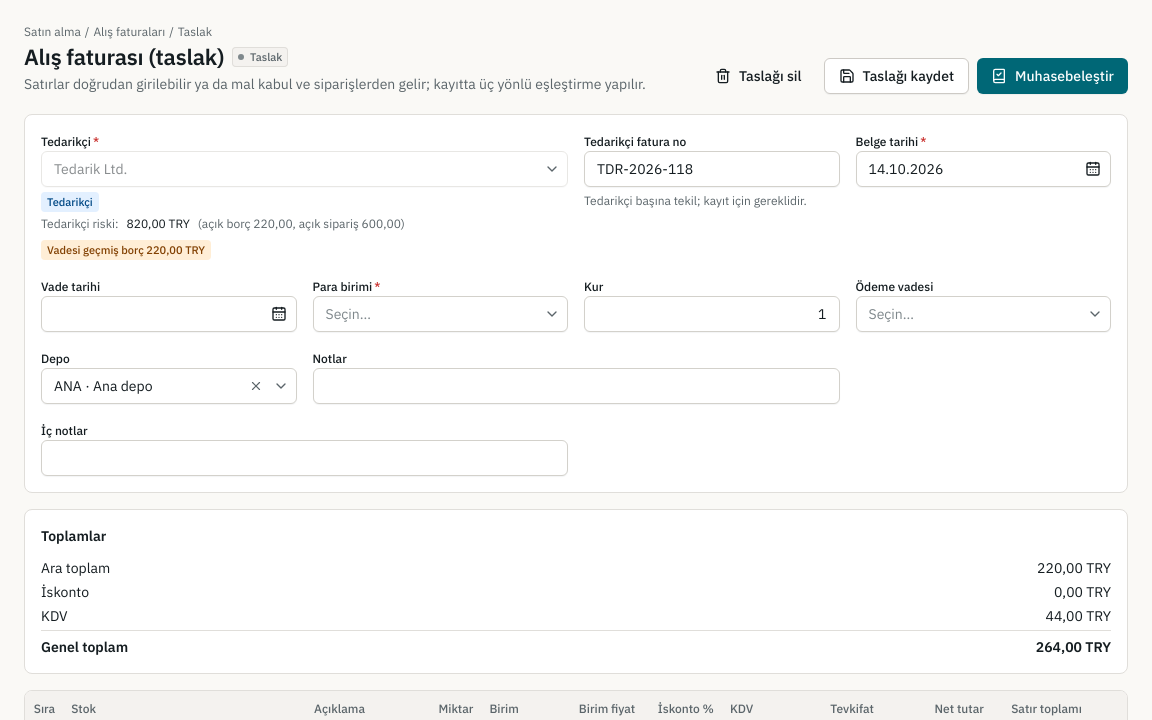
Test: book dialog refusal lifecycle › drops a refused match breakdown when the dialog is opened again
Expected: the heading "Alış faturası (taslak)" is shown, x1=24 y1=42 x2=224 y2=72
Click the button "Muhasebeleştir". click: (1052, 76)
box: x1=977 y1=58 x2=1128 y2=94
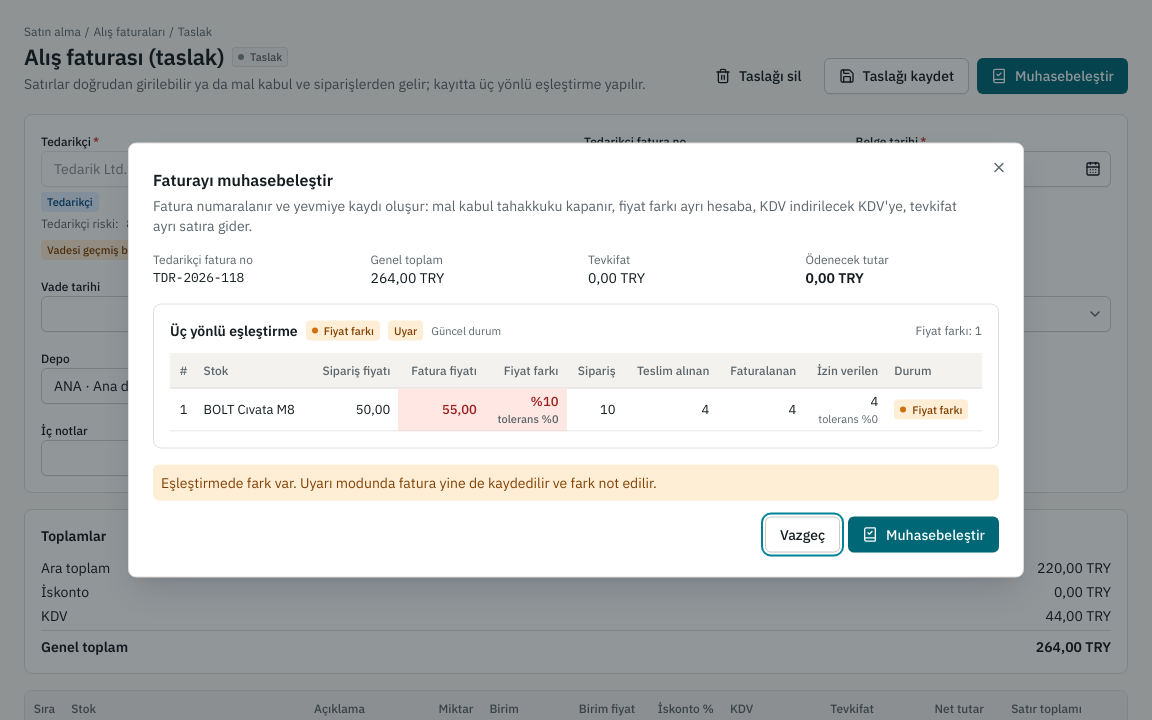
Now the text "Uyarı modunda" is shown, box x1=161 y1=474 x2=657 y2=492
Click the button "Muhasebeleştir". click: (924, 534)
box: x1=848 y1=516 x2=999 y2=552
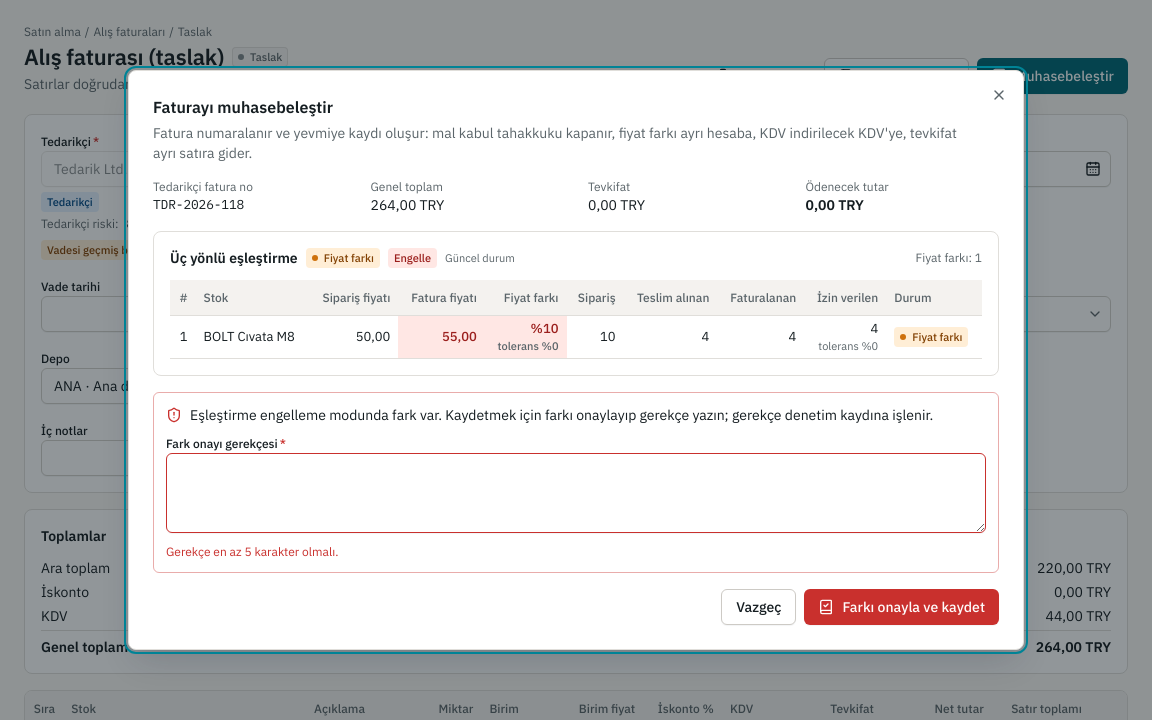
Now the text box labelled "Fark onayı gerekçesi*" is shown, box x1=166 y1=453 x2=986 y2=533
Click the button "Vazgeç". click: (759, 607)
box: x1=721 y1=589 x2=796 y2=625
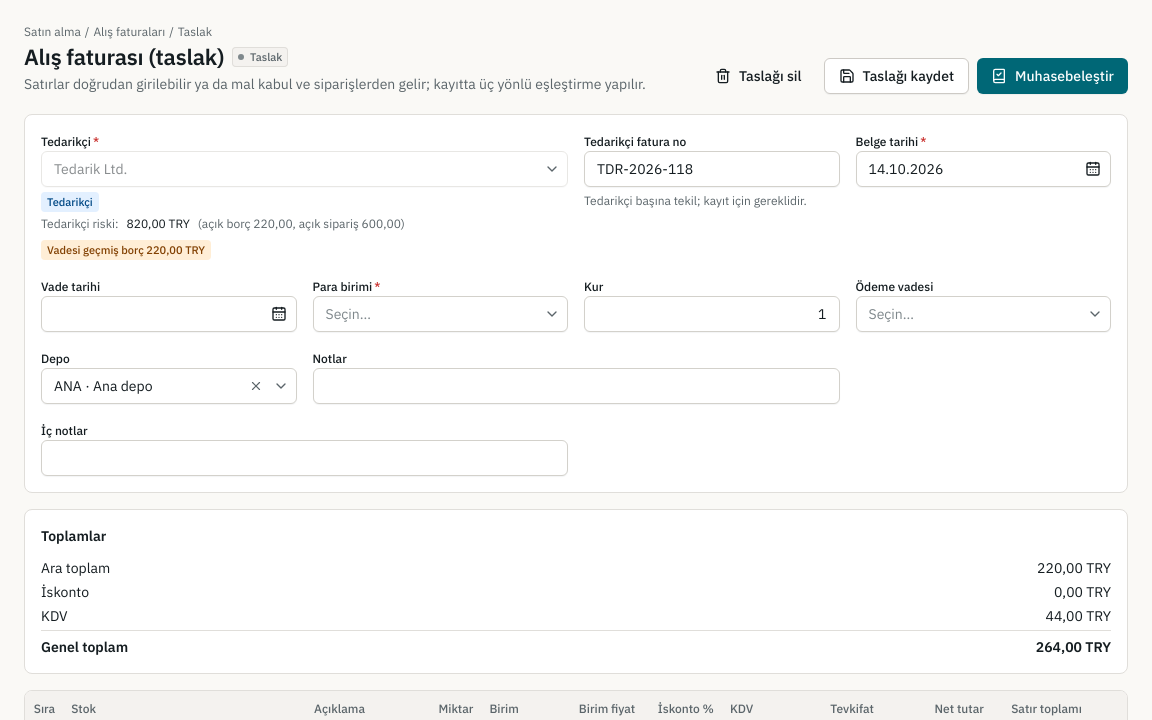
Now the dialog is gone
Click the button "Muhasebeleştir". click: (1052, 76)
box: x1=977 y1=58 x2=1128 y2=94
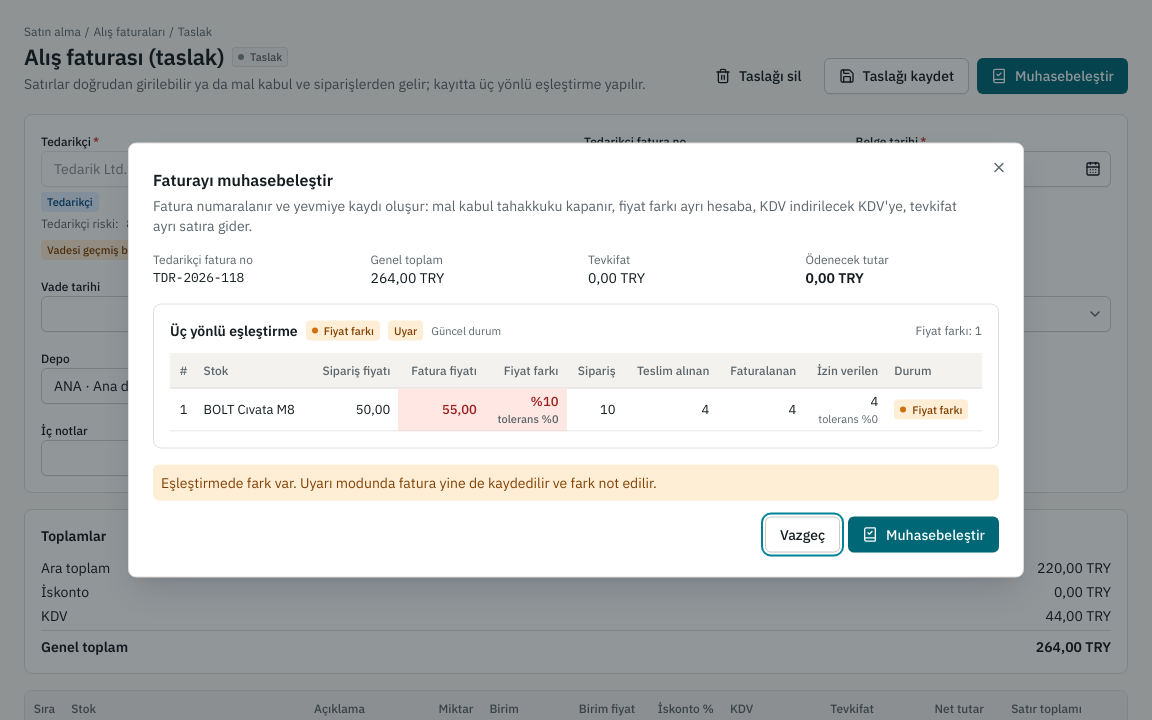
Expected: the label labelled "Fark onayı gerekçesi" is not shown
Now the text "Uyarı modunda" is shown, box x1=161 y1=474 x2=657 y2=492
